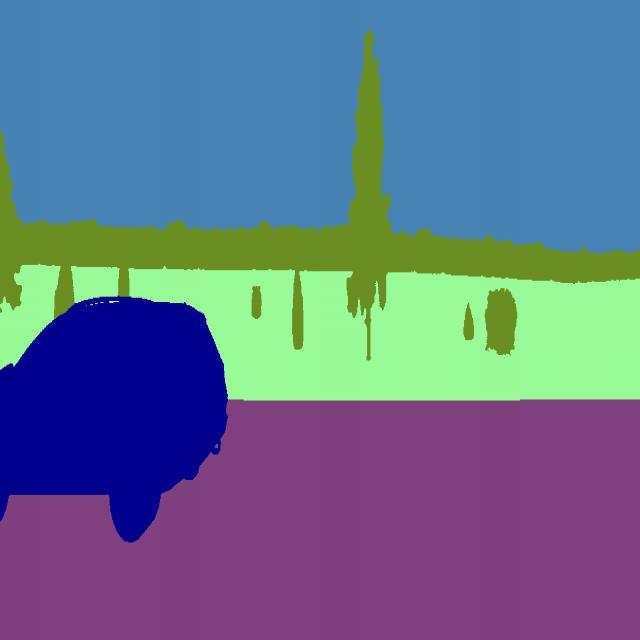unsafe: (0, 291, 232, 546)
